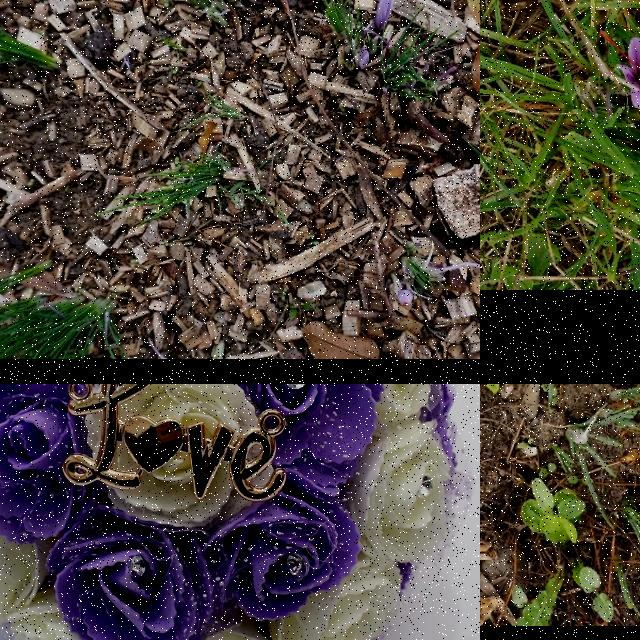flower: (600, 13, 640, 122), (373, 0, 394, 34), (398, 290, 414, 308)
